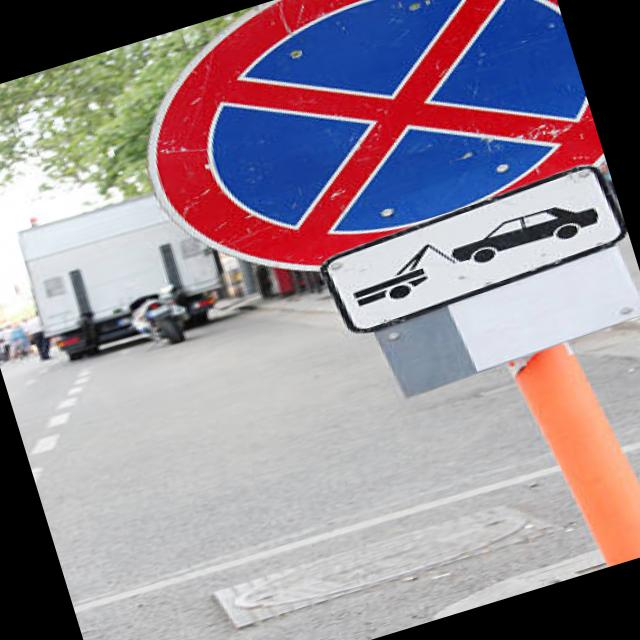no_parking: (110, 0, 613, 313)
